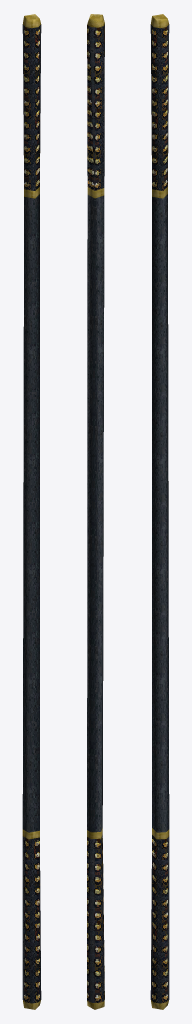
The model's file is wp_mle_lance_staff_wood_s02_l1.fbx.
The picture shows the model from 3 angles, left to right: view 1: azimuth 90°, elevation 25°; view 2: azimuth 150°, elevation 25°; view 3: azimuth 270°, elevation 25°; orthographic projection.
Visible parts, largest first — view 1: mesh_node; view 2: mesh_node; view 3: mesh_node.
Boxes of the visible parts, x1=… form: mesh_node: x1=22, y1=14, x2=41, y2=1009; mesh_node: x1=87, y1=14, x2=104, y2=1009; mesh_node: x1=150, y1=14, x2=169, y2=1009.
Bounding box in the file's own units: 0.0389 × 2.3 × 0.0389.
